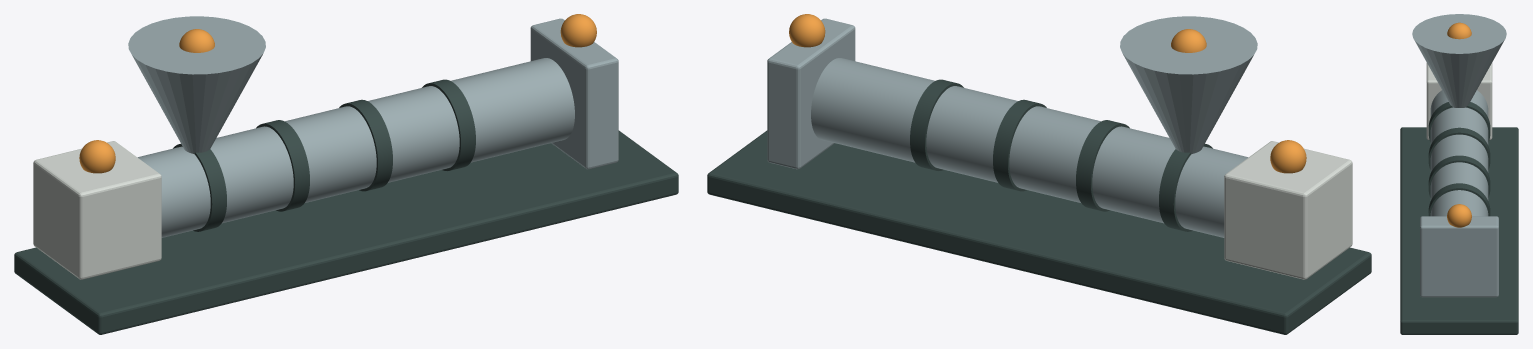
Rendered from feed.glb.
3 views of the same model, side by side, from view 1: azimuth 30°, elevation 25°; view 2: azimuth 150°, elevation 25°; view 3: azimuth 270°, elevation 25° (orthographic). The views are drawn at different scales.
Visible parts, largest first — view 1: Base.001, Barrel.001, Drive.001, Hopper.001, Die.001, Heater band.006, Heater band.005, Heater band.007, Heater band.004, Check position 2, Check position 3, Check position 1; view 2: Base.001, Barrel.001, Drive.001, Hopper.001, Die.001, Heater band.006, Heater band.005, Heater band.007, Heater band.004, Check position 2, Check position 3, Check position 1; view 3: Base.001, Die.001, Hopper.001, Barrel.001, Drive.001, Heater band.006, Heater band.005, Heater band.007, Check position 3, Heater band.004, Check position 1.
Part boxes in pixels (box(x1,y1,x2,y2)): Base.001: box(14, 130, 678, 334); Barrel.001: box(137, 58, 574, 237); Drive.001: box(33, 141, 161, 279); Hopper.001: box(128, 16, 265, 153); Die.001: box(530, 18, 618, 169); Heater band.006: box(339, 99, 392, 191); Heater band.005: box(256, 120, 309, 211); Heater band.007: box(422, 79, 475, 170); Heater band.004: box(173, 143, 226, 231); Check position 2: box(79, 140, 115, 173); Check position 3: box(560, 14, 596, 47); Check position 1: box(179, 29, 214, 52); Base.001: box(707, 130, 1371, 334); Barrel.001: box(811, 58, 1248, 237); Drive.001: box(1224, 141, 1352, 279); Hopper.001: box(1120, 16, 1257, 153); Die.001: box(767, 18, 855, 169); Heater band.006: box(993, 99, 1046, 191); Heater band.005: box(1076, 120, 1129, 211); Heater band.007: box(910, 79, 963, 170); Heater band.004: box(1159, 143, 1212, 231); Check position 2: box(1270, 140, 1306, 173); Check position 3: box(789, 14, 825, 47); Check position 1: box(1171, 29, 1206, 52); Base.001: box(1400, 127, 1518, 334); Die.001: box(1420, 216, 1498, 297); Hopper.001: box(1412, 14, 1506, 107); Barrel.001: box(1430, 90, 1488, 216); Drive.001: box(1426, 63, 1492, 139); Heater band.006: box(1428, 155, 1490, 197); Heater band.005: box(1428, 127, 1490, 169); Heater band.007: box(1428, 183, 1490, 216); Check position 3: box(1447, 204, 1471, 227); Heater band.004: box(1428, 102, 1490, 142); Check position 1: box(1447, 22, 1471, 39).
Bounding box in the file's own units: 7 × 2.76 × 1.8.
